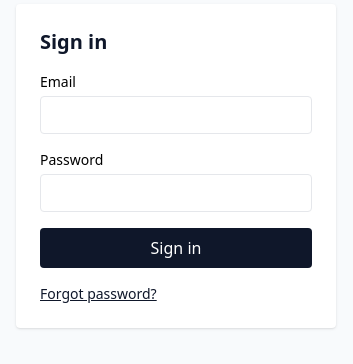
Test case: SignInPage › shows exactly the server's generic message and nothing else in the alert (AC7)
Type "ada@example.com" into the field labelled "Email".
click(176, 115); type("ada@example.com")  # box x1=40 y1=96 x2=312 y2=134
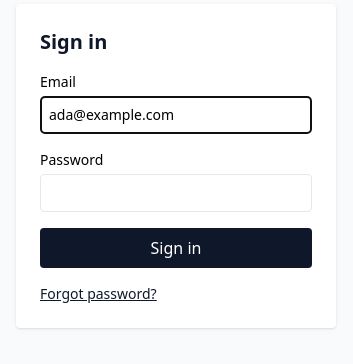
Type "test-password" into the password field labelled "Password".
click(176, 193); type("test-password")  # box x1=40 y1=174 x2=312 y2=212
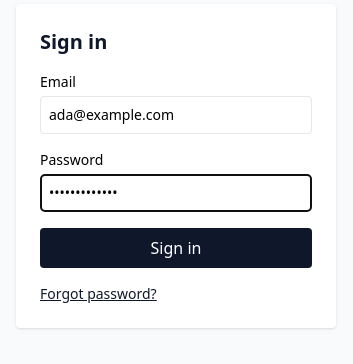
Click the button "Sign in".
click(176, 248)  # box x1=40 y1=228 x2=312 y2=268
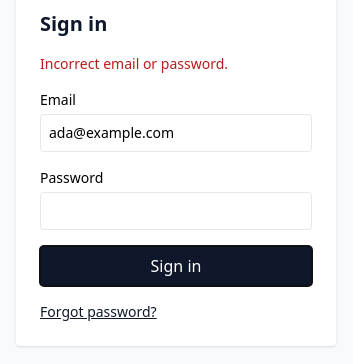
Result: the message reads "Incorrect email or password." at x1=40 y1=54 x2=228 y2=73
